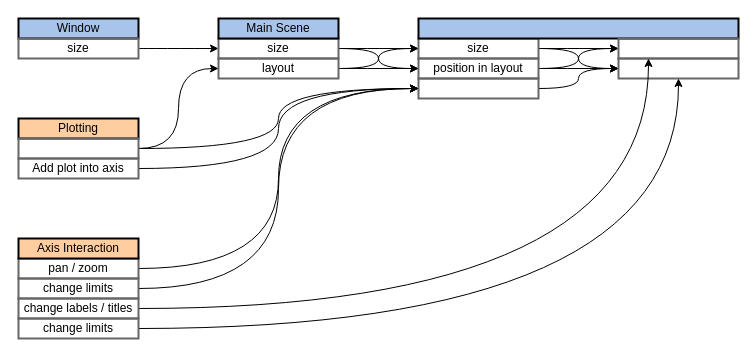
Image size: 756x356. Some labels were removed from this diagram. The box of each missing label's shape, as (x1, y1, x2, y2) in pixels:
Axis in Scene: (417, 17, 739, 39)
axis labels / titles: (617, 37, 739, 59)
Create axis / add plot: (17, 137, 139, 159)
data limits: (417, 77, 539, 99)
ticks / ticklabels / grid: (617, 57, 739, 79)
